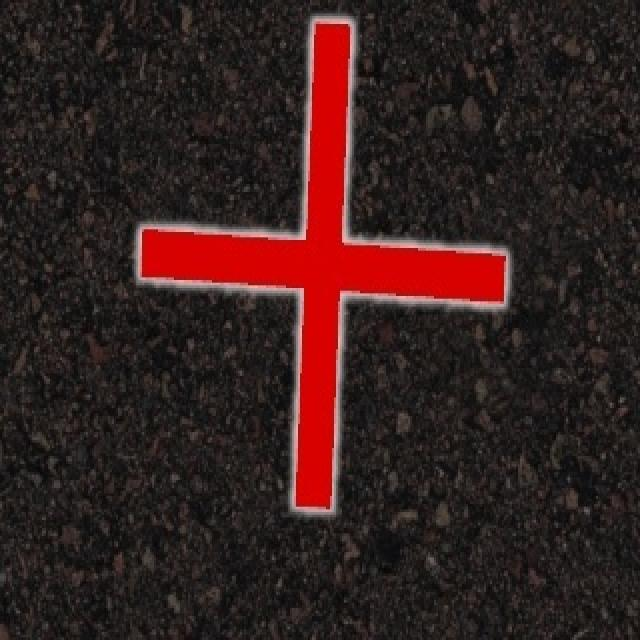x_marker: (139, 20, 505, 508)
